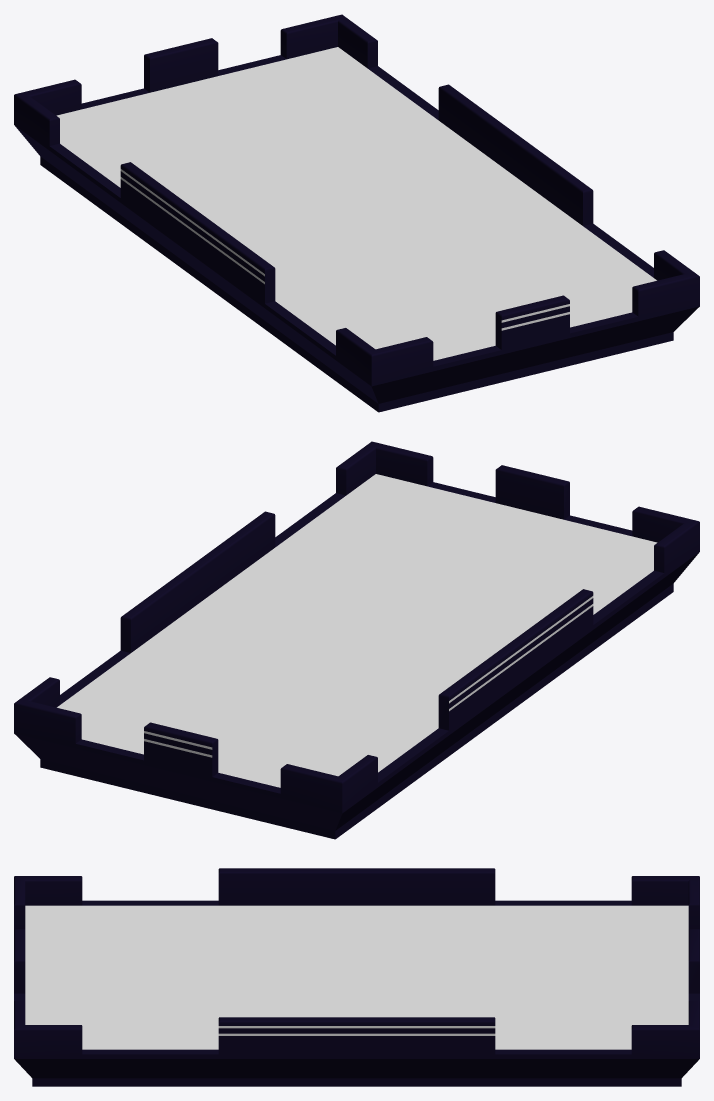
The picture shows the model from 3 angles, top to bottom: view 1: azimuth 30°, elevation 25°; view 2: azimuth 150°, elevation 25°; view 3: azimuth 270°, elevation 25°; orthographic projection. The views are drawn at different scales.
Parts seen in each view (by area): view 1: BASE 2X1; view 2: BASE 2X1; view 3: BASE 2X1.
Part boxes in pixels (bbox=[...]): BASE 2X1: bbox=[14, 14, 699, 412]; BASE 2X1: bbox=[14, 441, 699, 839]; BASE 2X1: bbox=[14, 868, 699, 1086].
Bounding box in the file's own units: 16 × 3.54 × 30.17.
